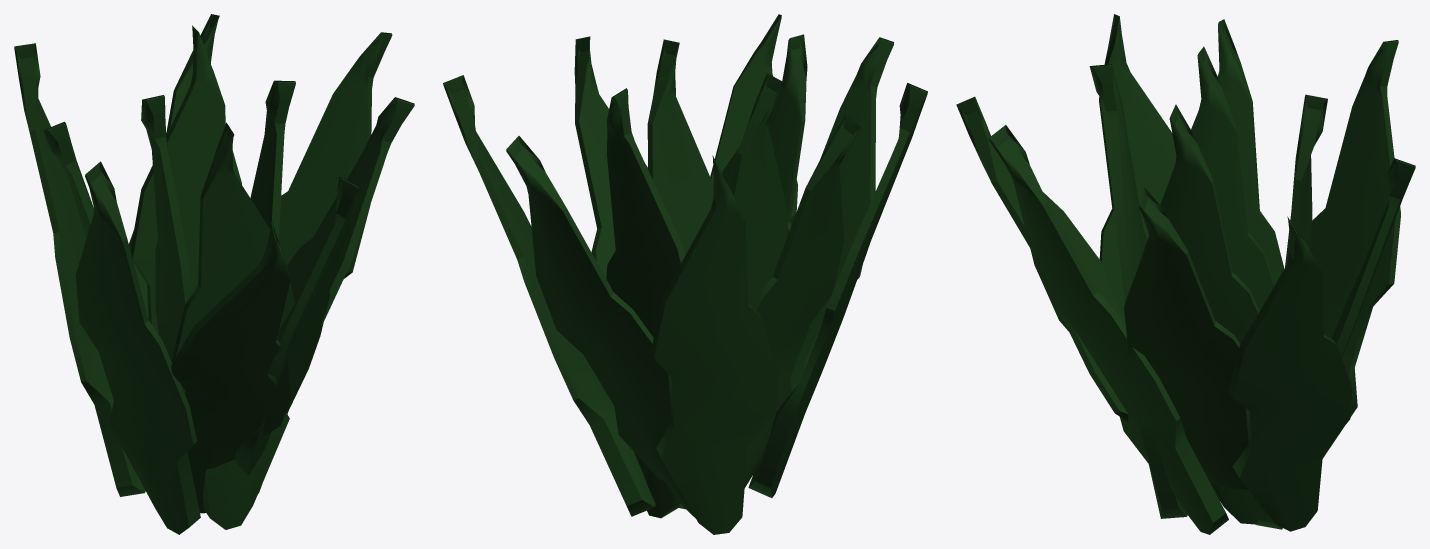
File: Seweed_tree.dae
The picture shows the model from 3 angles, left to right: view 1: azimuth 30°, elevation 25°; view 2: azimuth 150°, elevation 25°; view 3: azimuth 270°, elevation 25°; orthographic projection.
Parts seen in each view (by area): view 1: pCube15; view 2: pCube15; view 3: pCube15.
Boxes of the visible parts, <box> form: pCube15: <box>14,14,414,534</box>; pCube15: <box>443,14,927,534</box>; pCube15: <box>956,14,1415,534</box>.
Bounding box in the file's own units: 4.99 × 5.24 × 4.94.
